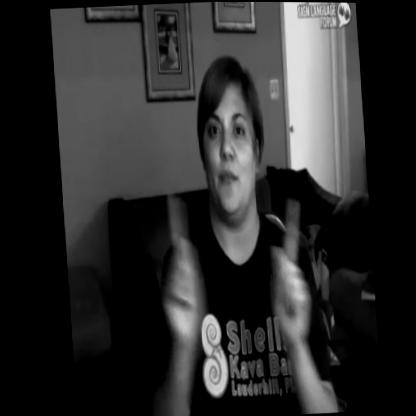NiceToMeetYou: (155, 176, 320, 375)
